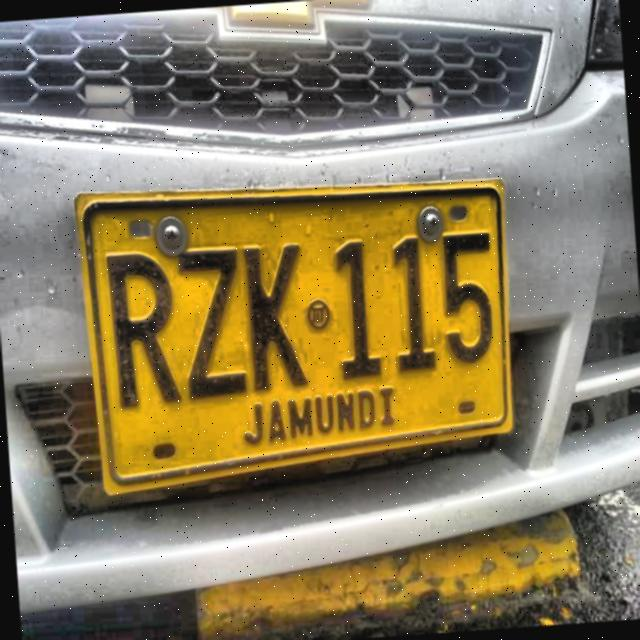1: (328, 232, 391, 383), (386, 229, 445, 379)
5: (438, 222, 502, 377)
K: (238, 240, 313, 397)
R: (95, 248, 187, 417)
Z: (172, 243, 252, 405)
